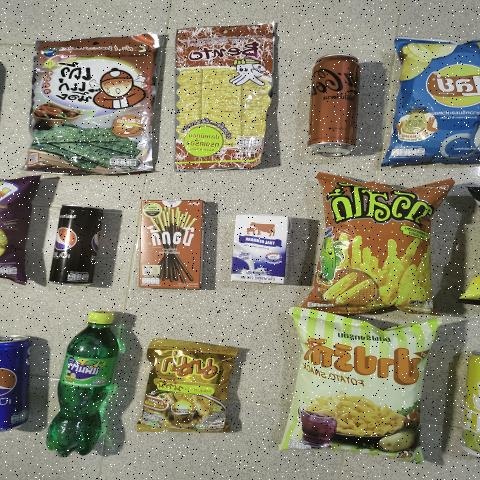bento_red: (174, 22, 275, 170)
coke_red: (303, 54, 365, 150)
fanta_green: (35, 306, 109, 460)
lay_blue: (388, 44, 480, 163)
mama: (132, 347, 234, 441)
paprika: (292, 320, 423, 454)
pepsi_black: (49, 206, 106, 288)
pepsi_blue: (0, 334, 36, 433)
pokki: (140, 200, 202, 293)
taokaenoi: (28, 34, 154, 171)
thai_denmark: (230, 217, 291, 286)
twisco: (321, 190, 433, 312)
